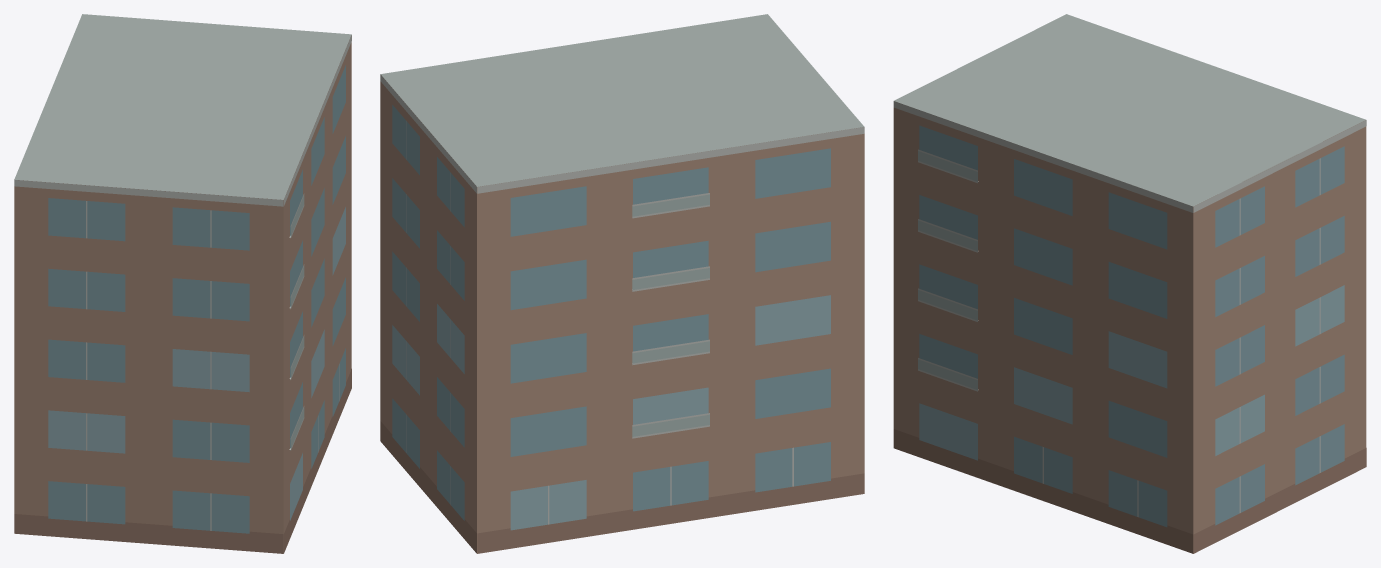
File: survey-upis-32620891.glb
3 views of the same model, side by side, from view 1: azimuth 30°, elevation 25°; view 2: azimuth 150°, elevation 25°; view 3: azimuth 270°, elevation 25° (orthographic). The views are drawn at different scales.
Parts seen in each view (by area): view 1: survey-upis-32620891.tmp; view 2: survey-upis-32620891.tmp; view 3: survey-upis-32620891.tmp.
Boxes of the visible parts, x1,y1,x2,y2 form: survey-upis-32620891.tmp: (14, 14, 351, 553); survey-upis-32620891.tmp: (380, 14, 864, 553); survey-upis-32620891.tmp: (893, 14, 1366, 553).
Size of the model in its own units: 15.39 by 12.93 by 15.96.
